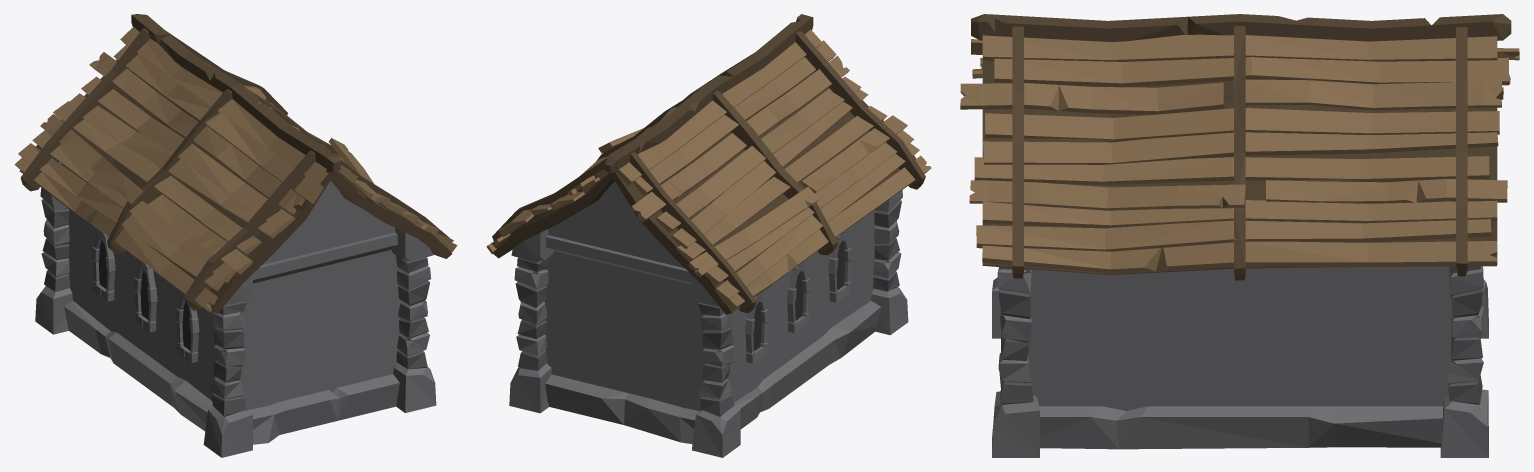
Rendered from SM_Bld_Church_Room_02_Lite.gltf.
3 views of the same model, side by side, from view 1: azimuth 30°, elevation 25°; view 2: azimuth 150°, elevation 25°; view 3: azimuth 270°, elevation 25° (orthographic). The views are drawn at different scales.
Parts seen in each view (by area): view 1: SM_Bld_Church_Room_02_Lite; view 2: SM_Bld_Church_Room_02_Lite; view 3: SM_Bld_Church_Room_02_Lite.
Boxes of the visible parts, x1=… form: SM_Bld_Church_Room_02_Lite: x1=14, y1=14, x2=457, y2=457; SM_Bld_Church_Room_02_Lite: x1=486, y1=14, x2=931, y2=457; SM_Bld_Church_Room_02_Lite: x1=960, y1=14, x2=1519, y2=457.
Size of the model in its own units: 6.42 by 6.4 by 8.75.
1 material, 1 textured.
